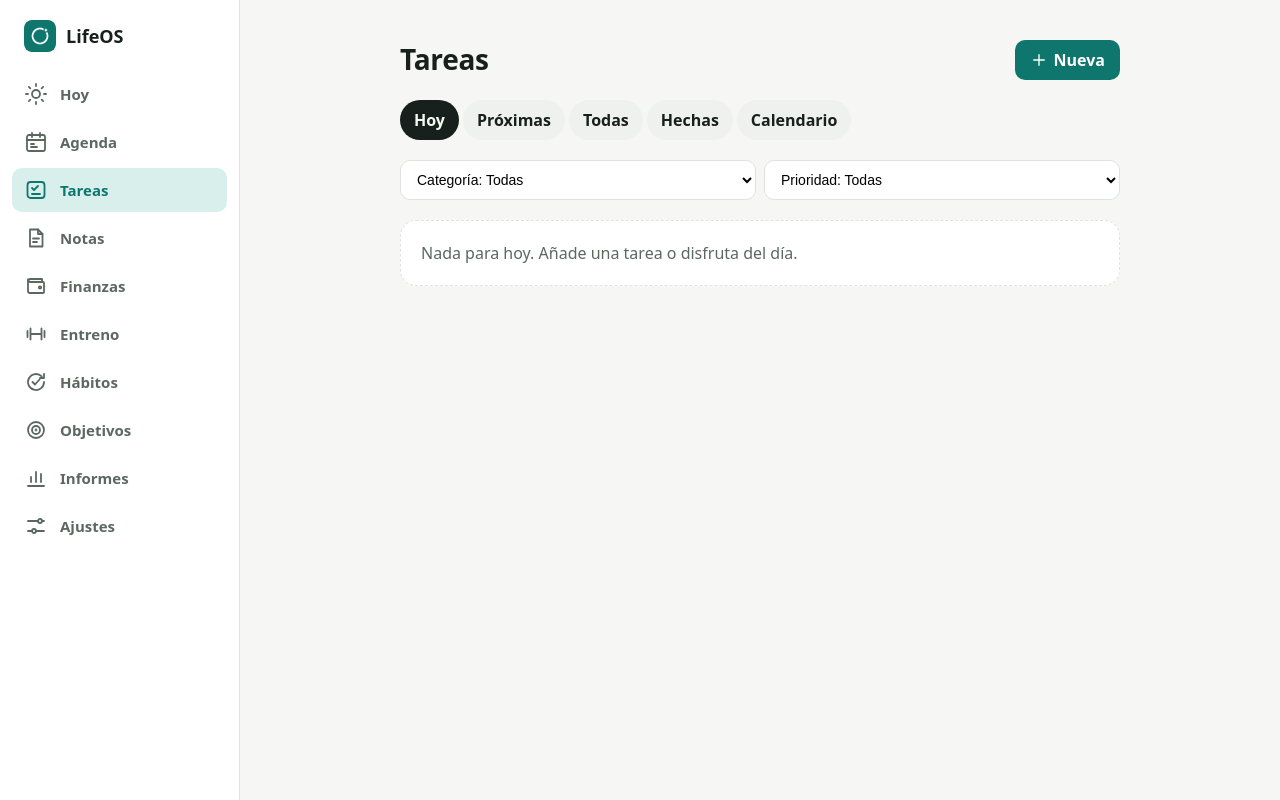
Test: lista de tareas › cambia de vista y filtra desde la URL
Click the button "Próximas" at (514, 120), box left=463, top=100, right=565, bottom=140
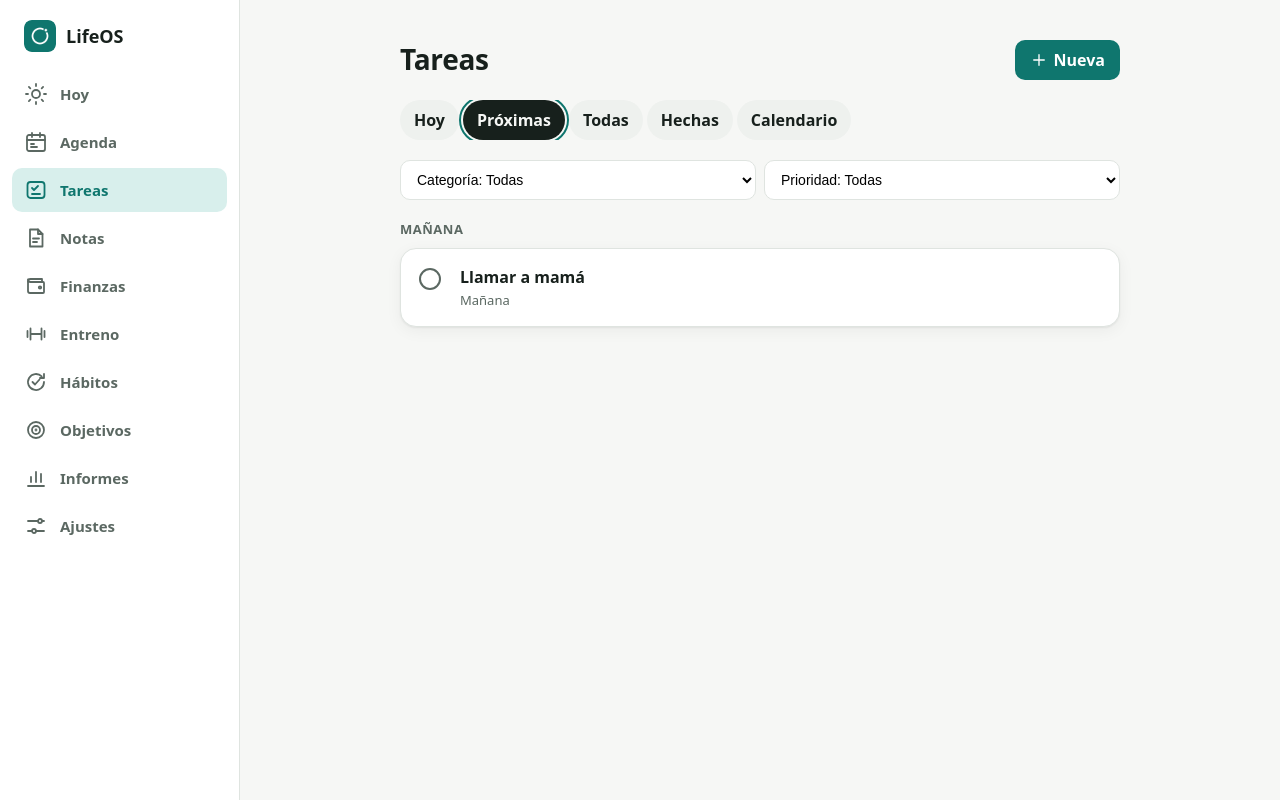
Result: the element "Mañana" shows "Llamar a mamá" at left=456, top=252, right=1111, bottom=322
Select "Casa" in the 1st dropdown named "Categoría" at (578, 180), box left=400, top=160, right=756, bottom=200
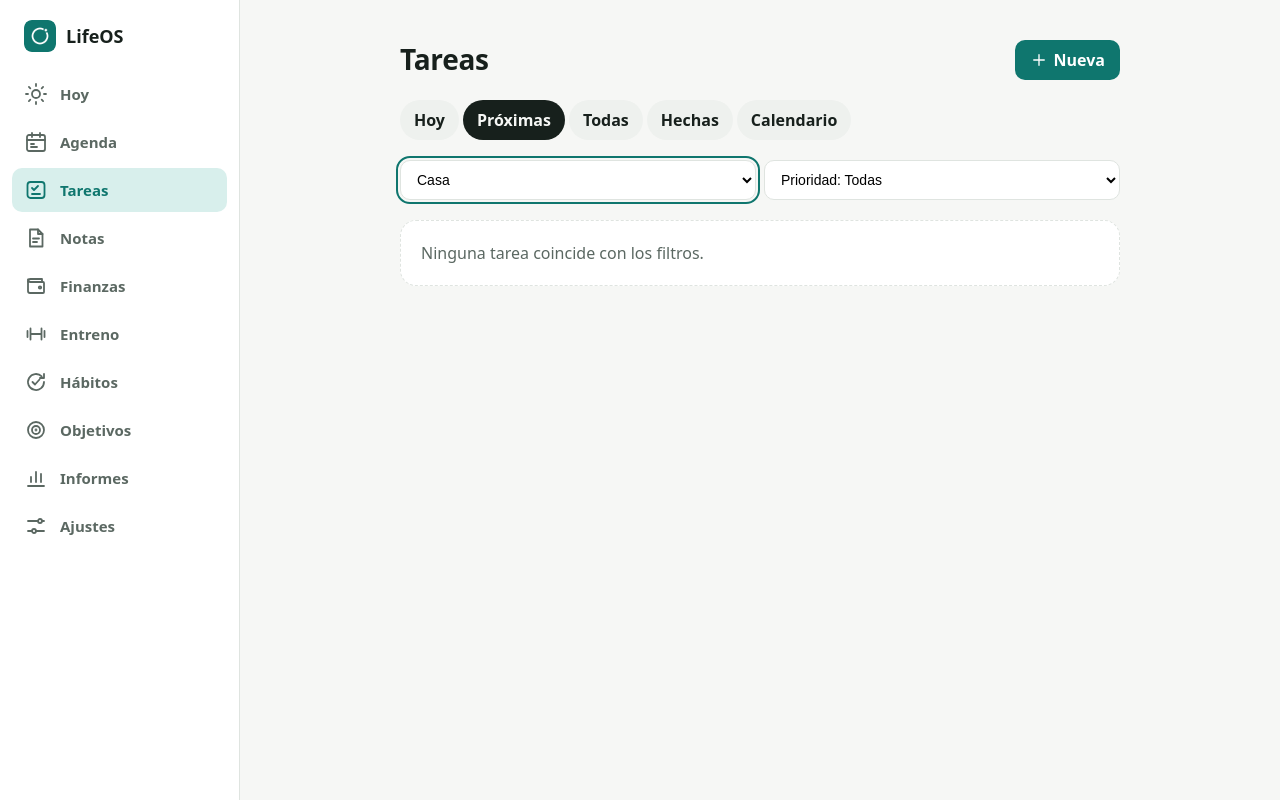
Result: the text "Ninguna tarea coincide con los filtros." is shown at left=421, top=242, right=704, bottom=264
